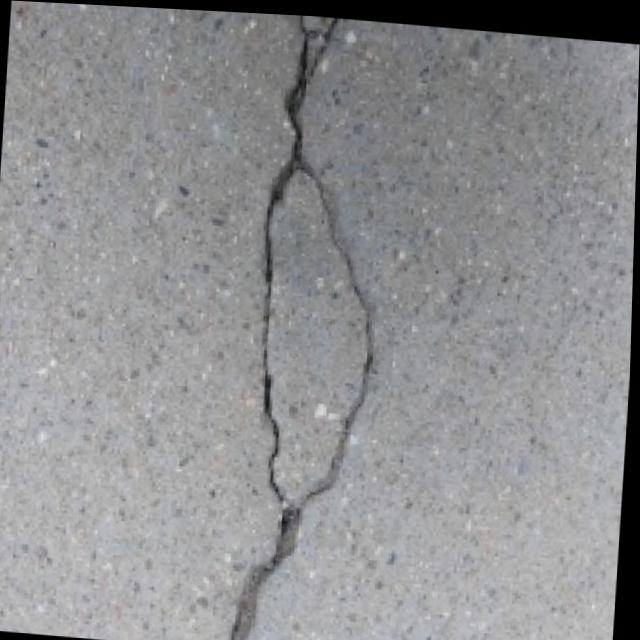Crack: (210, 9, 403, 640)
